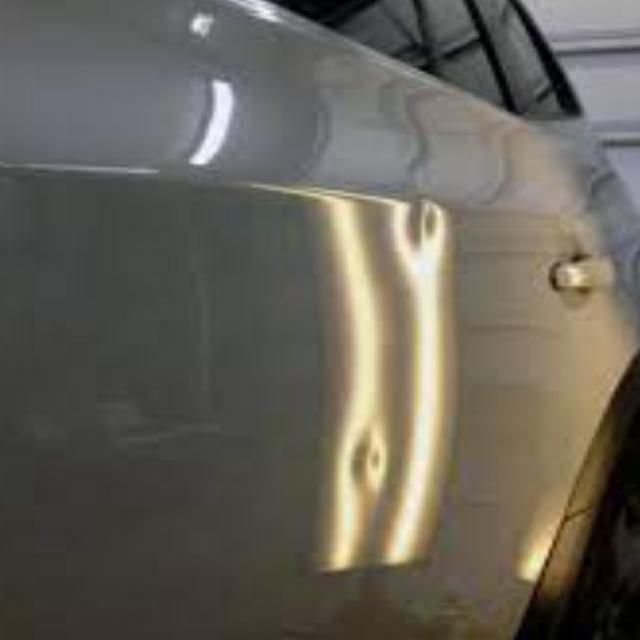dents: (336, 424, 416, 516), (398, 191, 472, 279)
